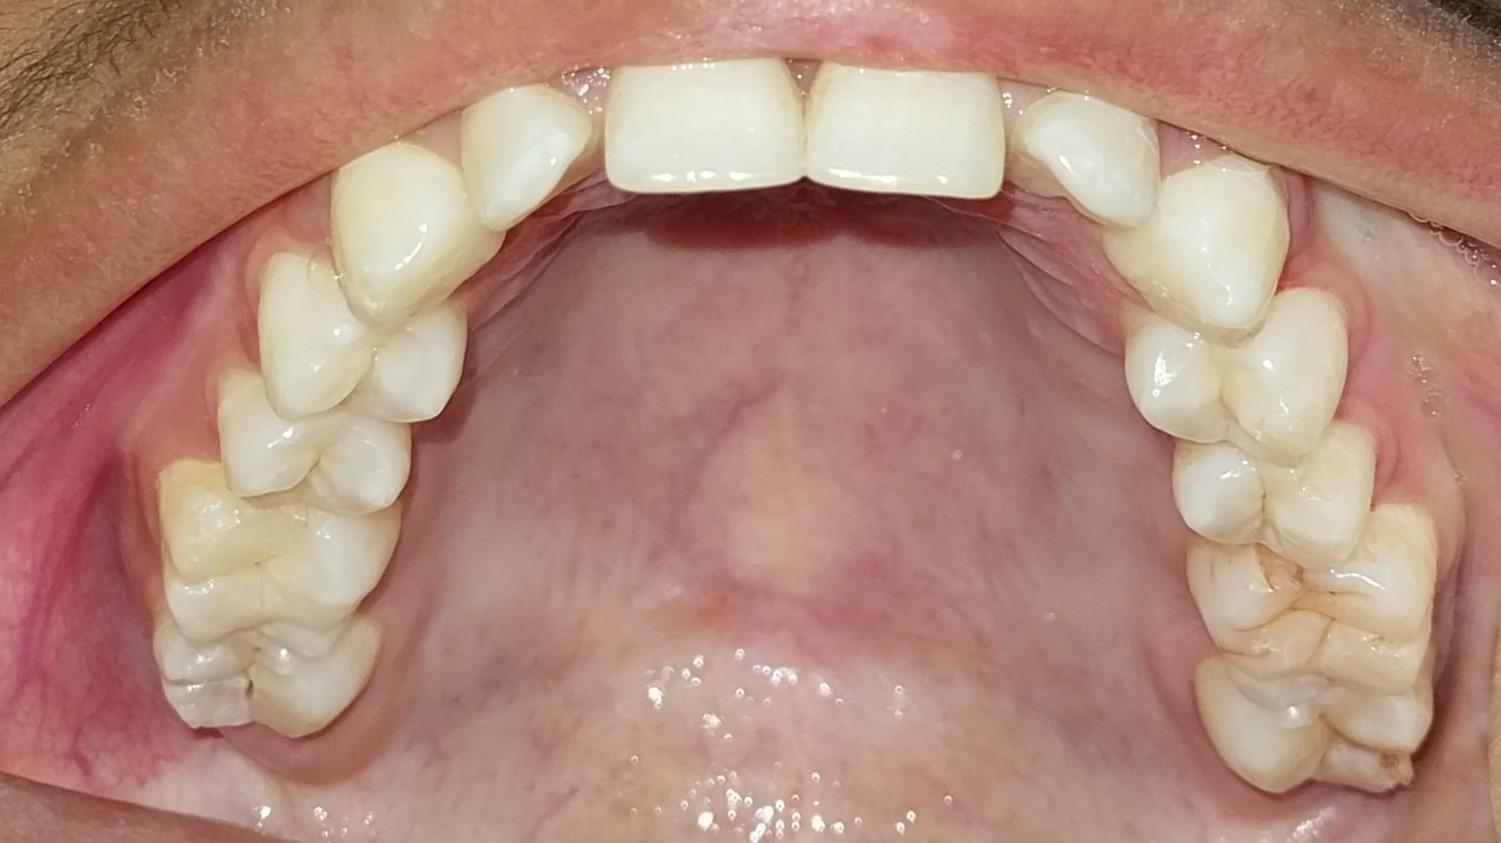D: (1188, 502, 1445, 678), (1195, 645, 1436, 793), (1172, 427, 1379, 573), (150, 610, 381, 739)
